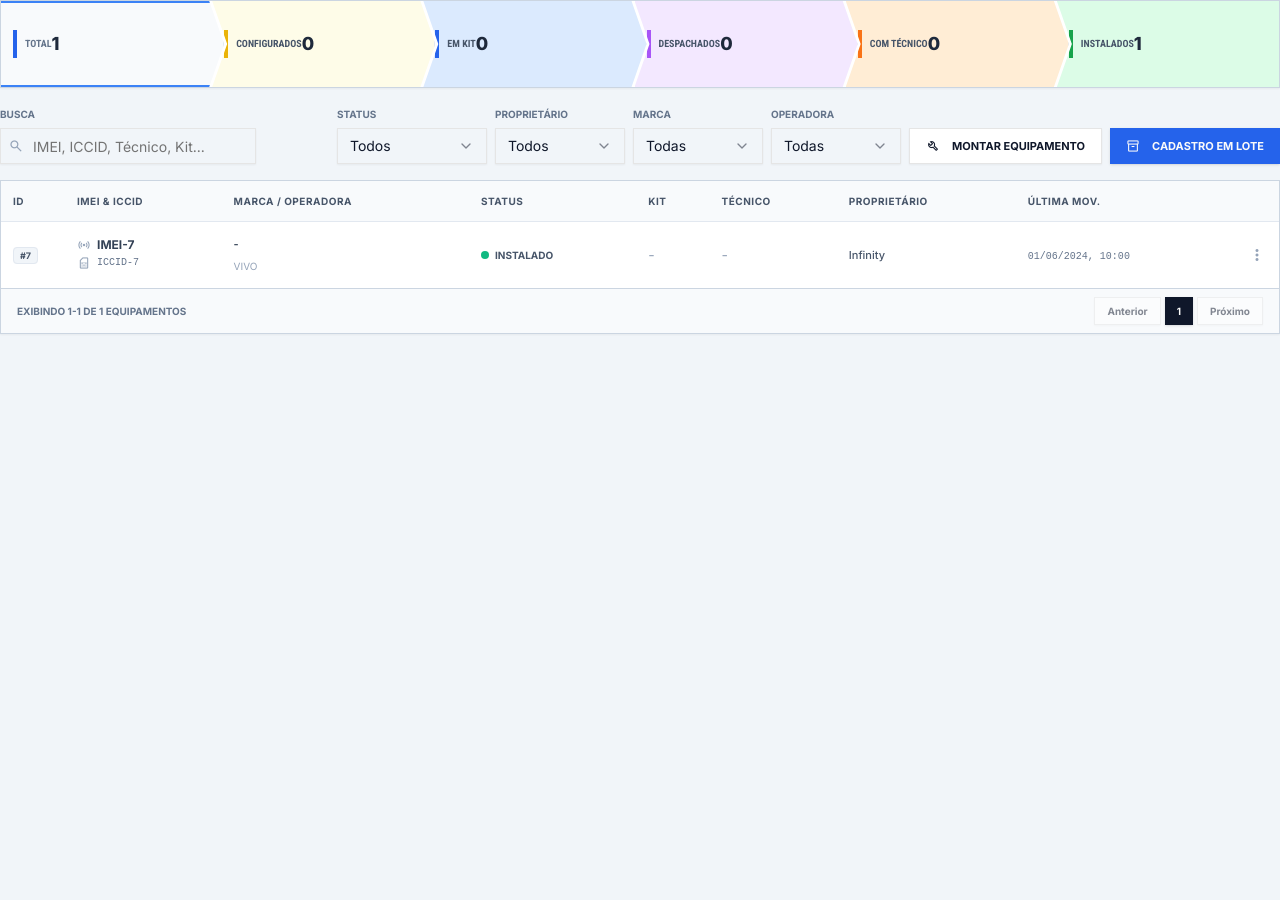
EquipamentosPage (integração) › expande linha e mostra painel com histórico
What coordinates should you click on to do the following:
click the row with test id "equipamento-row-7"
I would click on:
 (640, 255)
Its box is x1=1 y1=222 x2=1279 y2=288.
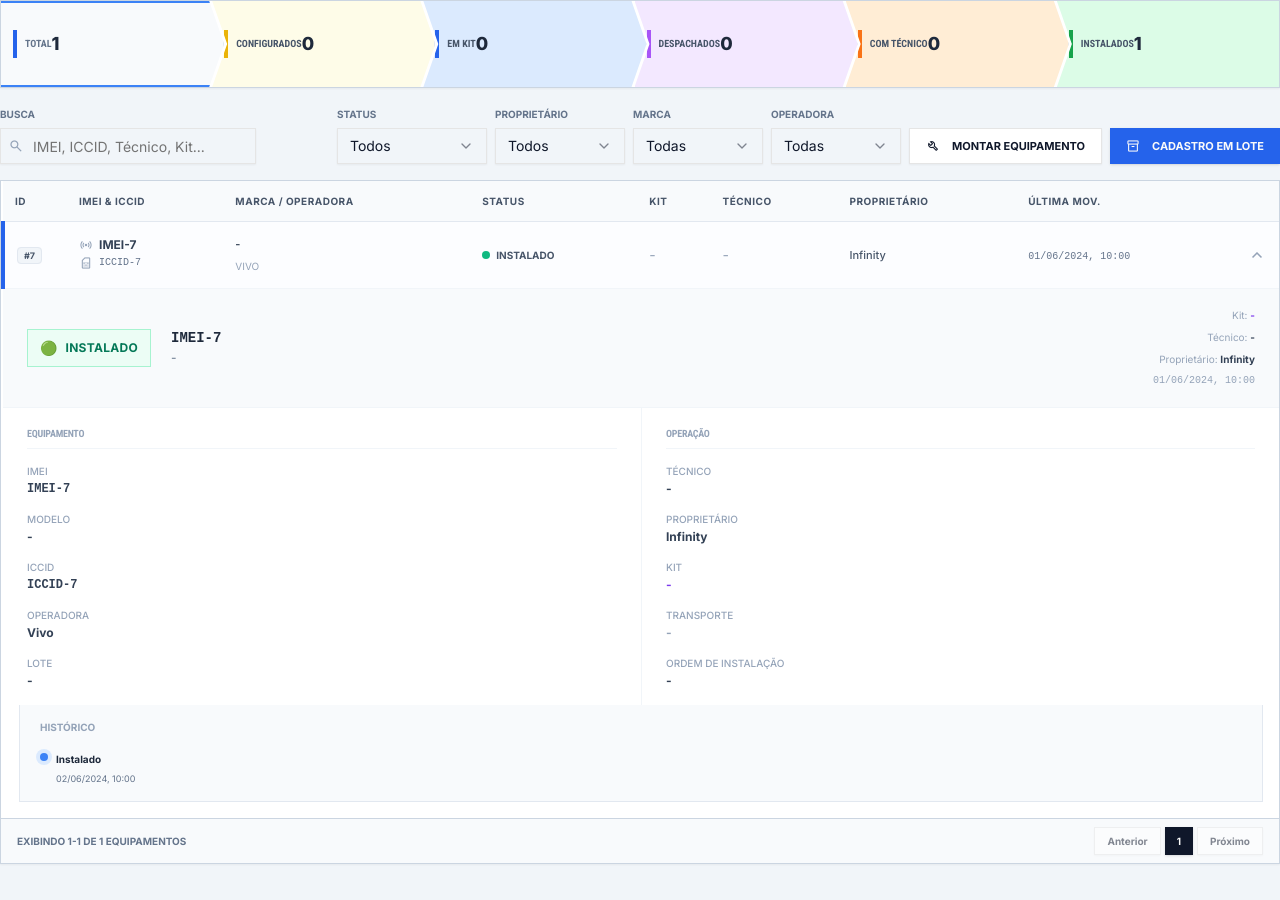
Now the element with test id "equipamento-historico" is shown, box x1=40 y1=753 x2=135 y2=784
Now the text "Instalado" below "Histórico" is shown, box x1=56 y1=753 x2=101 y2=765
